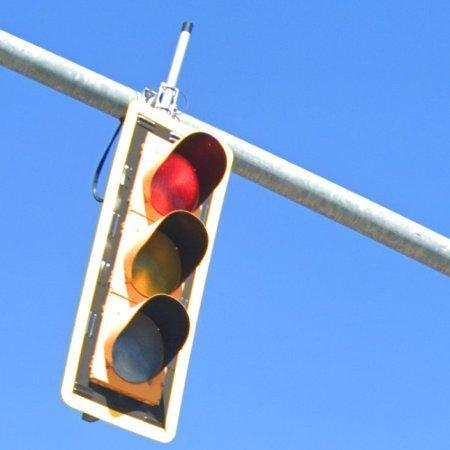traffic lights: (58, 102, 230, 442)
